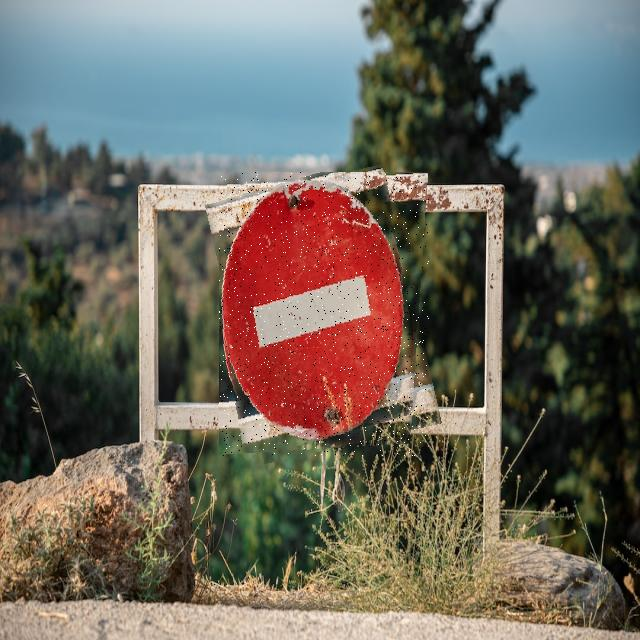no entry: (219, 172, 429, 456)
